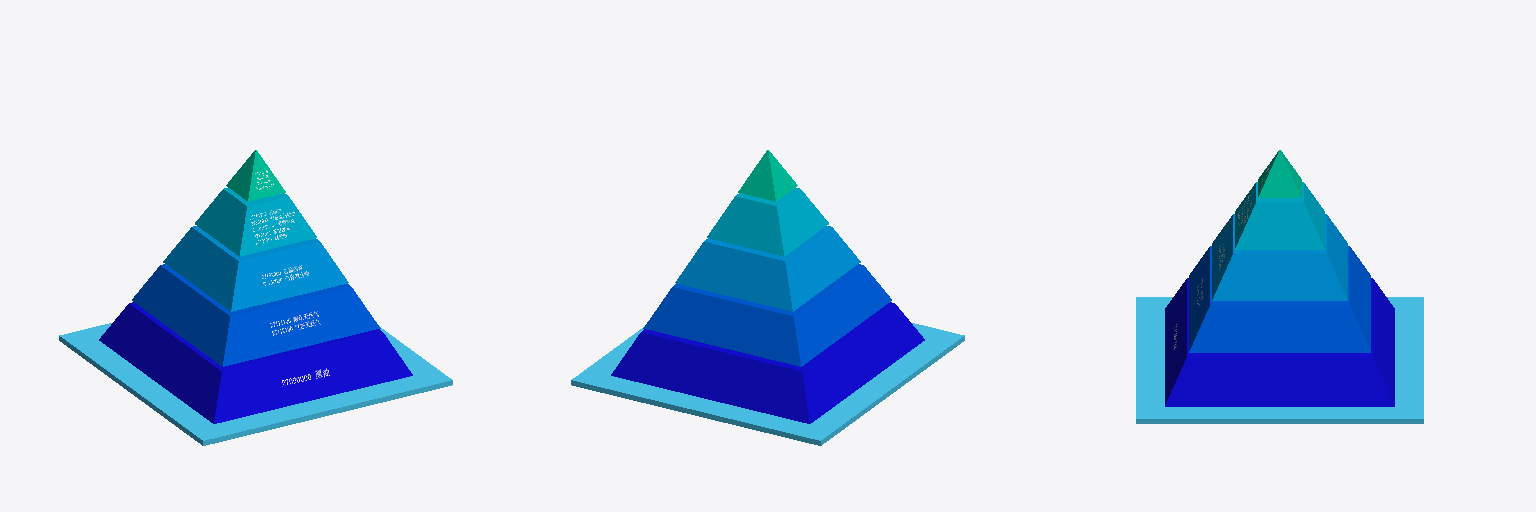
3 views of the same model, side by side, from view 1: azimuth 30°, elevation 25°; view 2: azimuth 150°, elevation 25°; view 3: azimuth 270°, elevation 25° (orthographic).
Parts seen in each view (by area): view 1: F01, F02, base, F03, F04, F05; view 2: F01, F02, base, F03, F04, F05; view 3: F01, base, F02, F03, F04, F05.
Boxes of the visible parts, x1,y1,x2,y2 form: F01: [99, 302, 412, 423]; F02: [132, 264, 380, 366]; base: [59, 323, 452, 445]; F03: [163, 226, 348, 311]; F04: [195, 188, 316, 256]; F05: [226, 150, 285, 201]; F01: [611, 302, 924, 423]; F02: [643, 264, 891, 366]; base: [571, 323, 964, 445]; F03: [675, 226, 860, 311]; F04: [707, 188, 828, 256]; F05: [738, 150, 797, 201]; F01: [1165, 278, 1394, 406]; base: [1136, 297, 1423, 423]; F02: [1189, 246, 1370, 352]; F03: [1212, 214, 1347, 300]; F04: [1235, 182, 1324, 249]; F05: [1258, 150, 1301, 197].
Size of the model in its own units: 1250 by 1025 by 1250.
Materials: 1 (1 with a texture image).